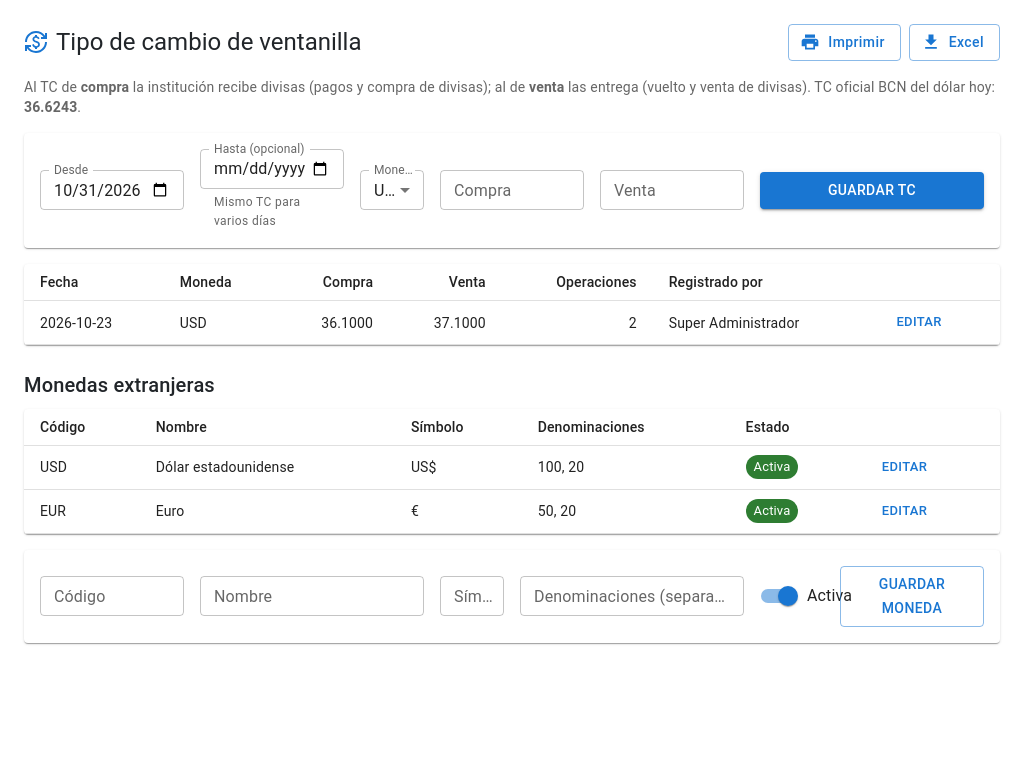
Test: Tipo de cambio de ventanilla › no deja un rango al revés
The image size is (1024, 768).
Expected: the text "36.1000" is shown, [276, 301, 389, 345]
Type "2026-10-26" into the date field labelled "Desde" at (112, 190), box [40, 170, 184, 210]
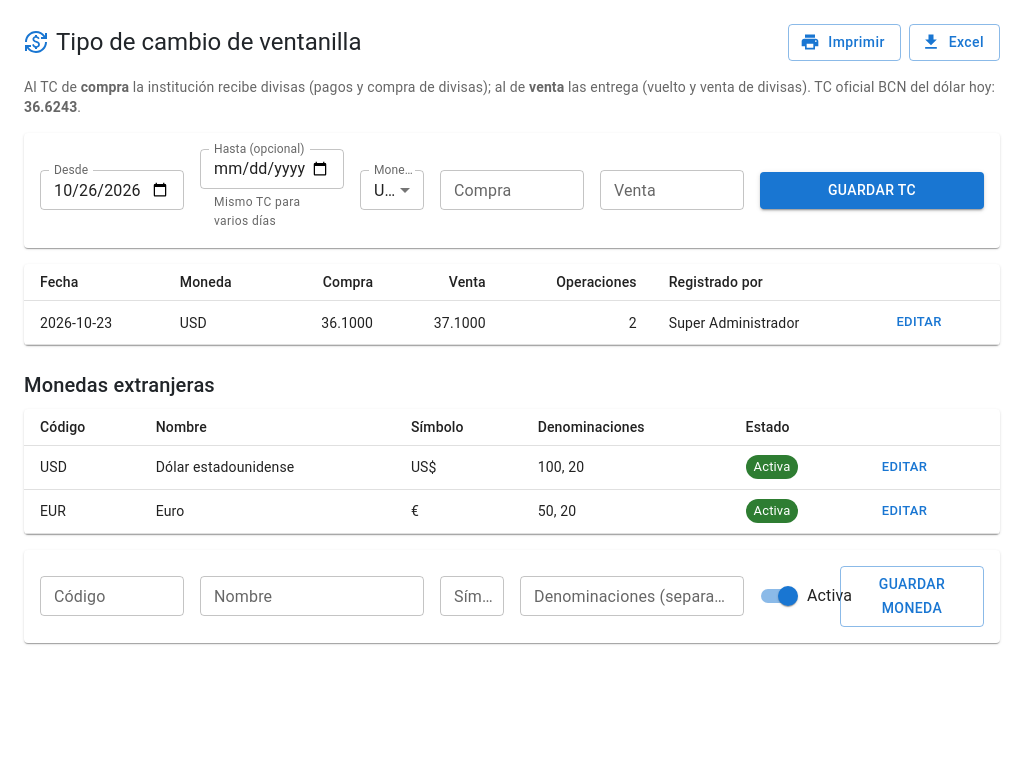
Type "2026-10-24" into the date field labelled "Hasta (opcional)" at (272, 168), box [200, 148, 344, 188]
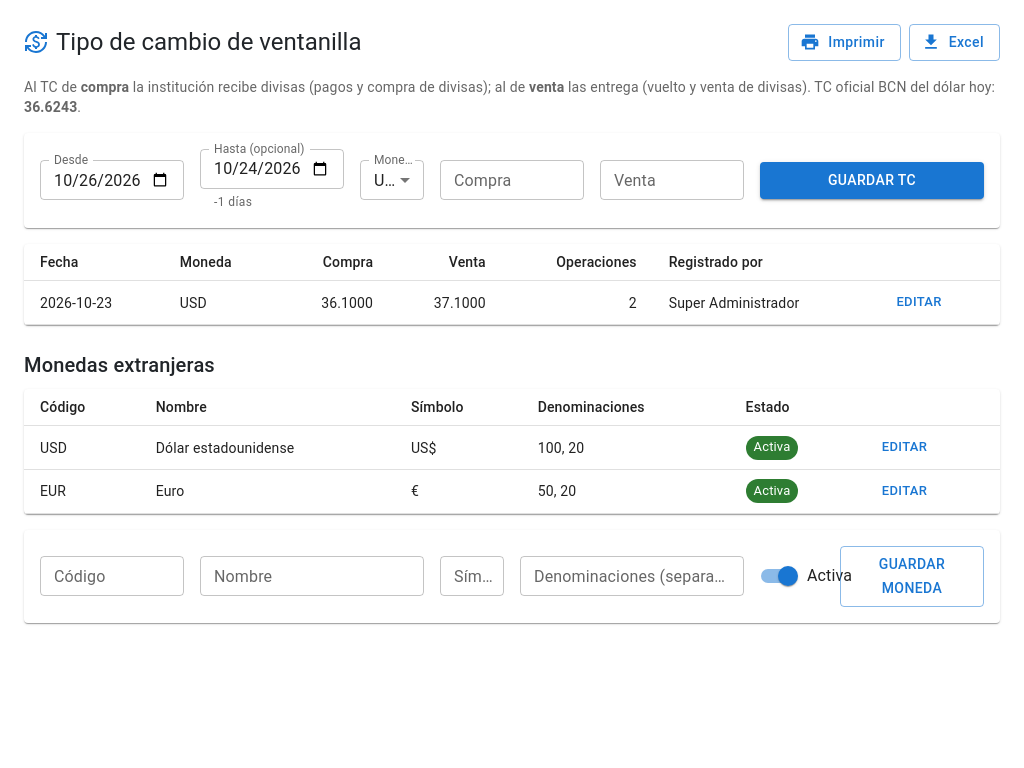
Type "36.2" into the number field labelled "Compra" at (512, 180), box [440, 160, 584, 200]
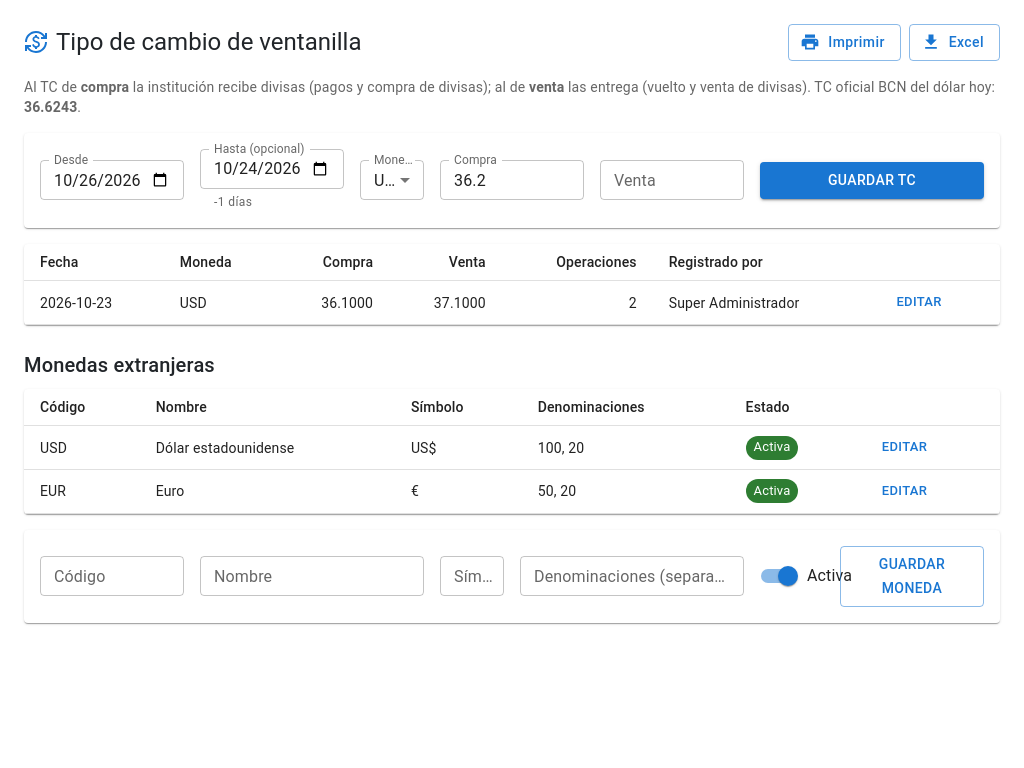
Click the button "Guardar TC" at (872, 180), box [760, 162, 984, 199]
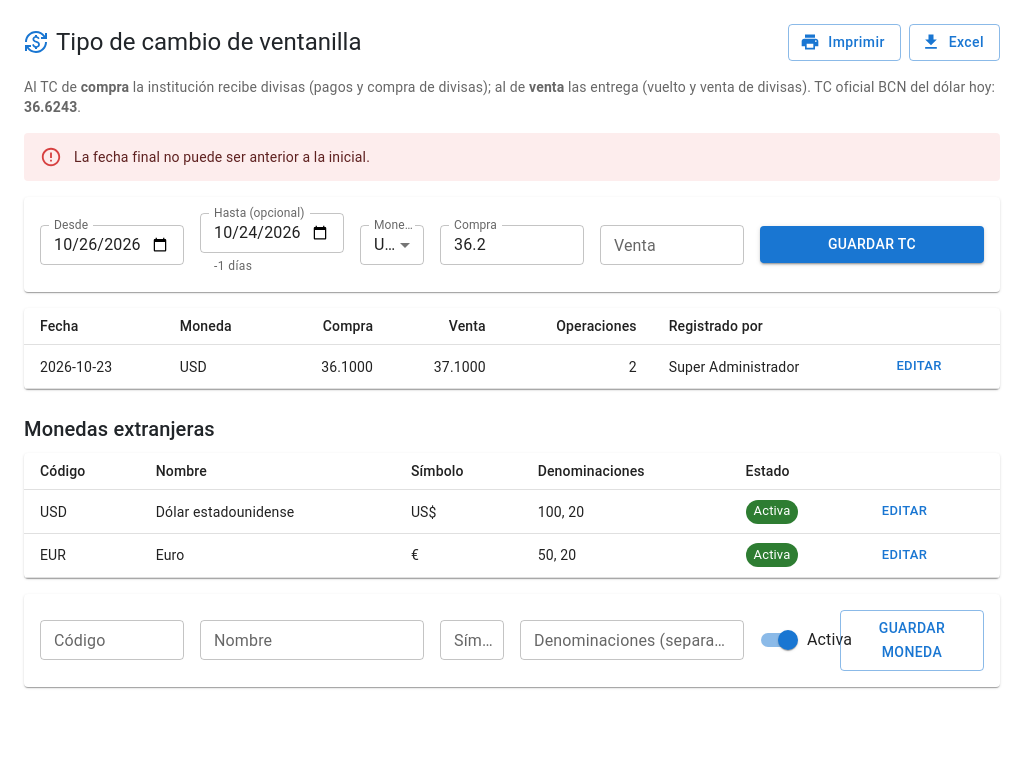
Expected: the text "La fecha final no puede ser anterior a la inicial." is shown, [74, 148, 370, 164]
